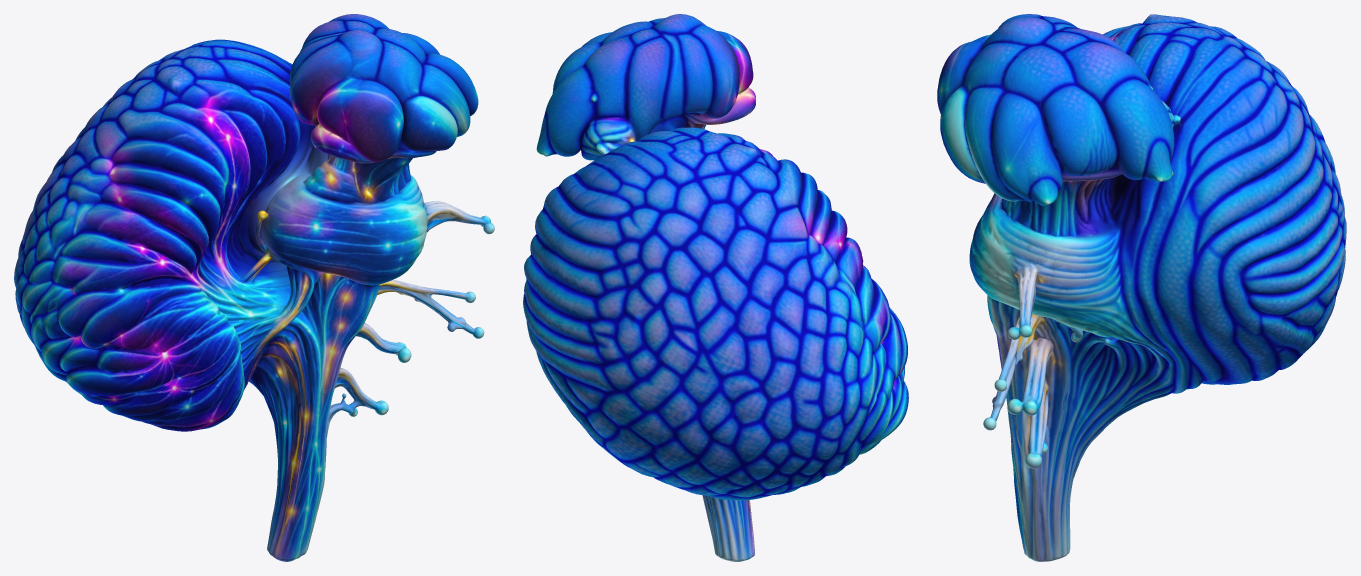
The model's file is brain-stem.glb.
3 views of the same model, side by side, from view 1: azimuth 30°, elevation 25°; view 2: azimuth 150°, elevation 25°; view 3: azimuth 270°, elevation 25° (orthographic). The views are drawn at different scales.
Visible parts, largest first — view 1: world; view 2: world; view 3: world.
Boxes of the visible parts, x1,y1,x2,y2 form: world: [14, 14, 494, 561]; world: [523, 14, 908, 561]; world: [937, 14, 1346, 561].
Size of the model in its own units: 0.8019 by 0.9999 by 0.6483.
Materials: 1 (1 with a texture image).
